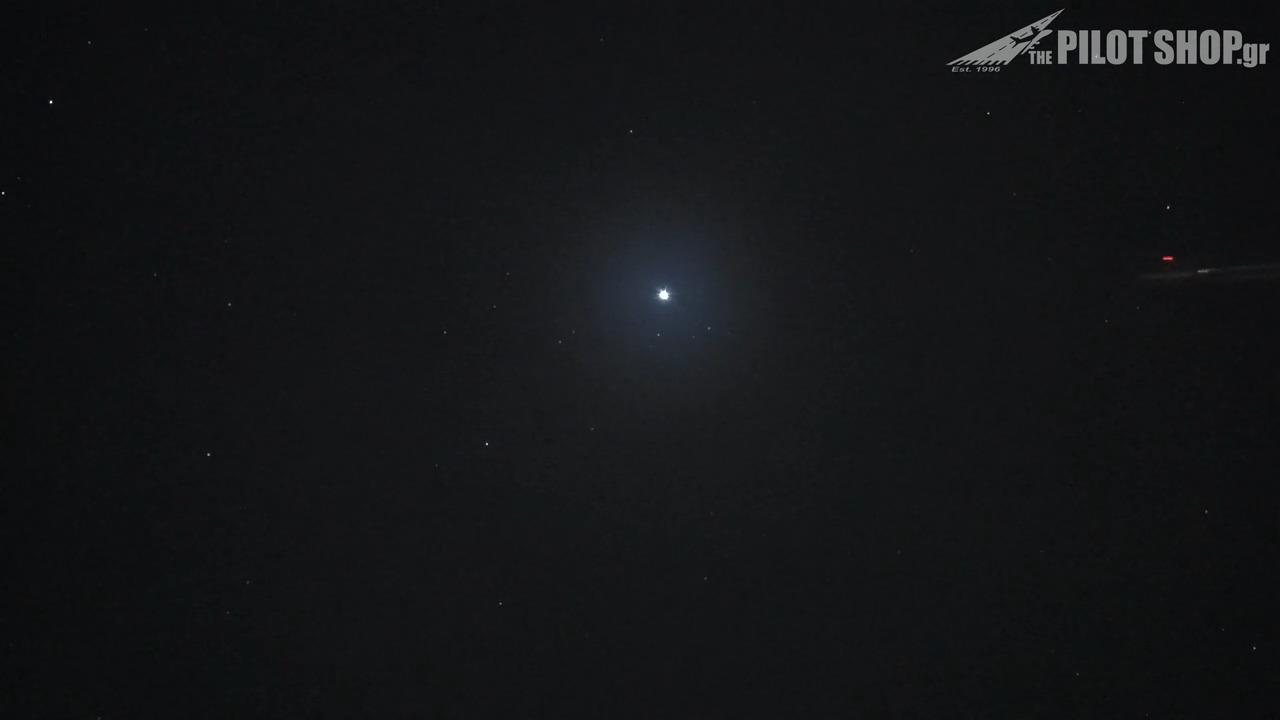Plane: (1118, 247, 1279, 294)
